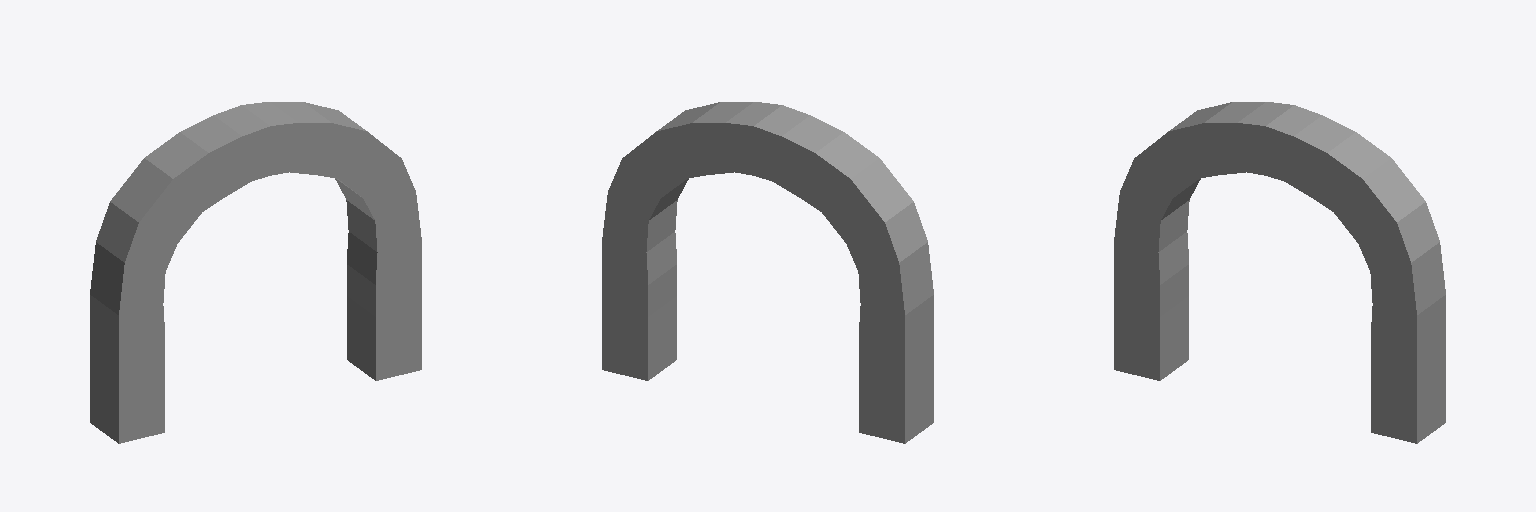
The model's file is brama_01.obj.
3 views of the same model, side by side, from view 1: azimuth 30°, elevation 25°; view 2: azimuth 150°, elevation 25°; view 3: azimuth 330°, elevation 25° (orthographic).
Parts seen in each view (by area): view 1: arch01_Plane.004; view 2: arch01_Plane.004; view 3: arch01_Plane.004.
Part boxes in pixels (x1,y1,x2,y2): arch01_Plane.004: (90,102,421,443); arch01_Plane.004: (602,102,933,443); arch01_Plane.004: (1114,102,1445,443).
Size of the model in its own units: 5.09 by 4.51 by 0.8419.